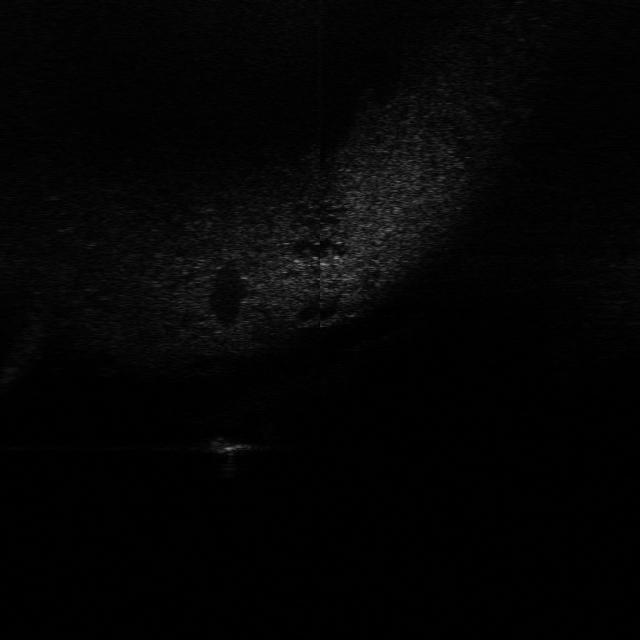cube: (200, 430, 260, 459)
